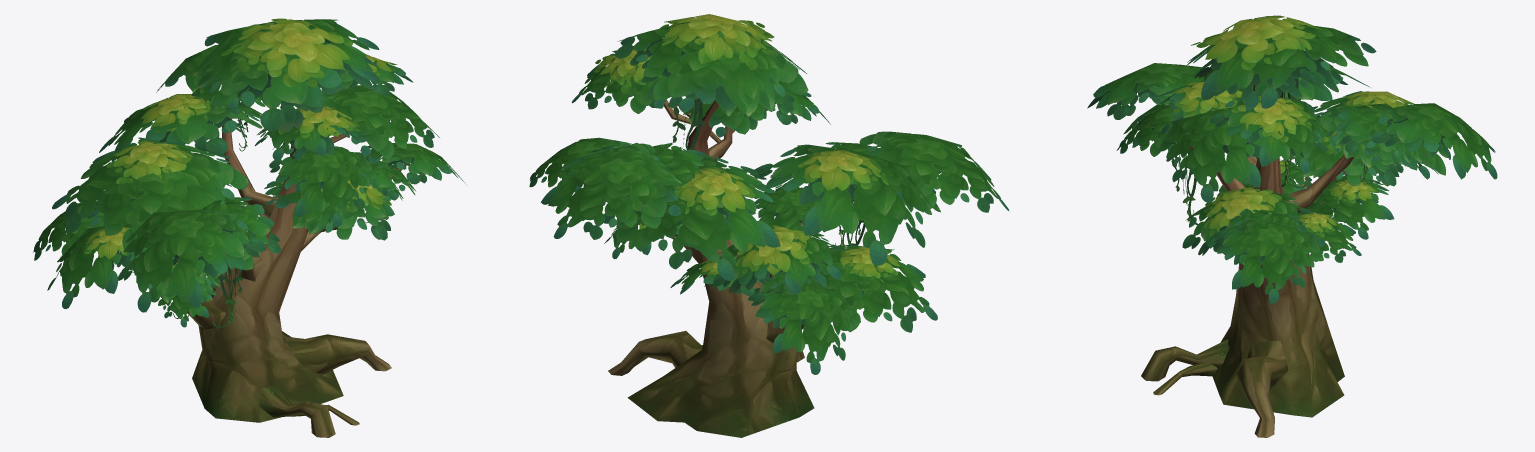
Rendered from sm_tree03.FBX.
3 views of the same model, side by side, from view 1: azimuth 30°, elevation 25°; view 2: azimuth 150°, elevation 25°; view 3: azimuth 270°, elevation 25° (orthographic). The views are drawn at different scales.
Visible parts, largest first — view 1: sm_tree03; view 2: sm_tree03; view 3: sm_tree03.
Part boxes in pixels (x1,y1,x2,y2): sm_tree03: [33, 18, 465, 437]; sm_tree03: [529, 14, 1009, 437]; sm_tree03: [1087, 15, 1497, 437].
Bounding box in the file's own units: 2500 × 2394 × 2085.
